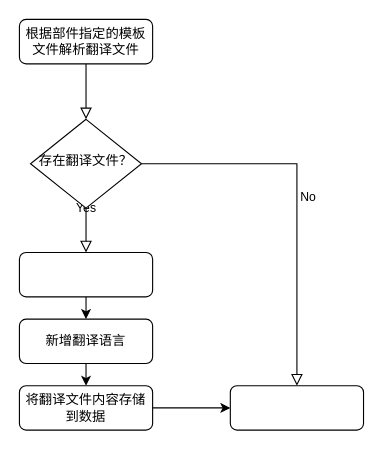
This 383x450 diagram has some shape labels left out. Here are the shapes that lost their labels. From the top down, the box of each, then its label:
(18, 251, 153, 297): 遍历翻译文件
(229, 385, 364, 430): 结束
